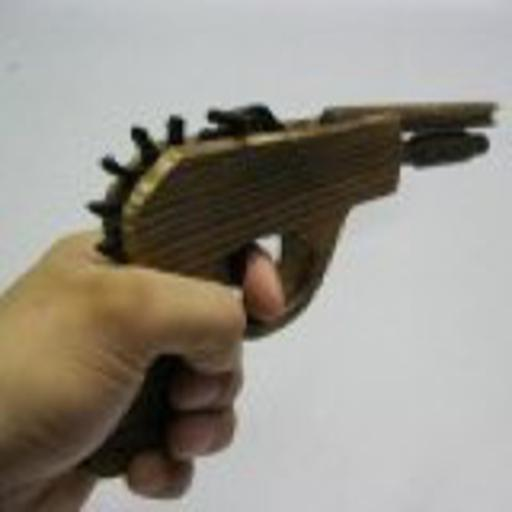Handgun: (72, 75, 498, 485)
